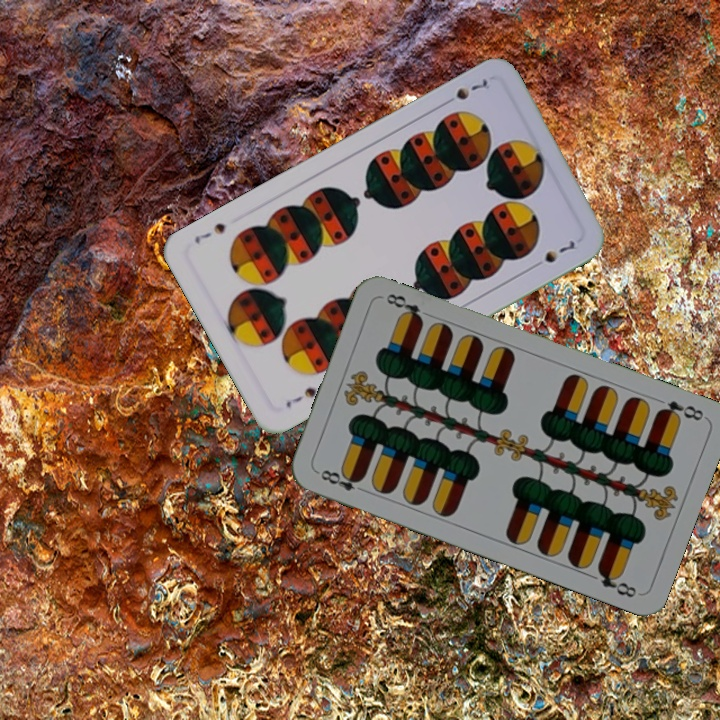E8: (313, 465, 370, 496), (653, 396, 706, 424)
S7: (438, 75, 492, 108), (281, 383, 319, 410)
